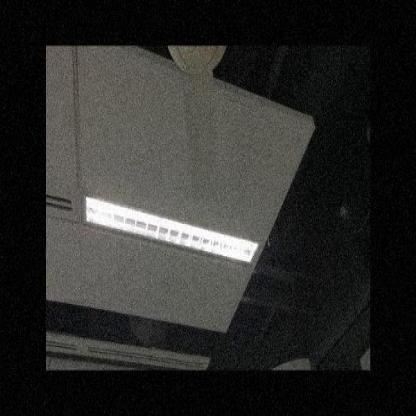light_on: (79, 182, 264, 280)
